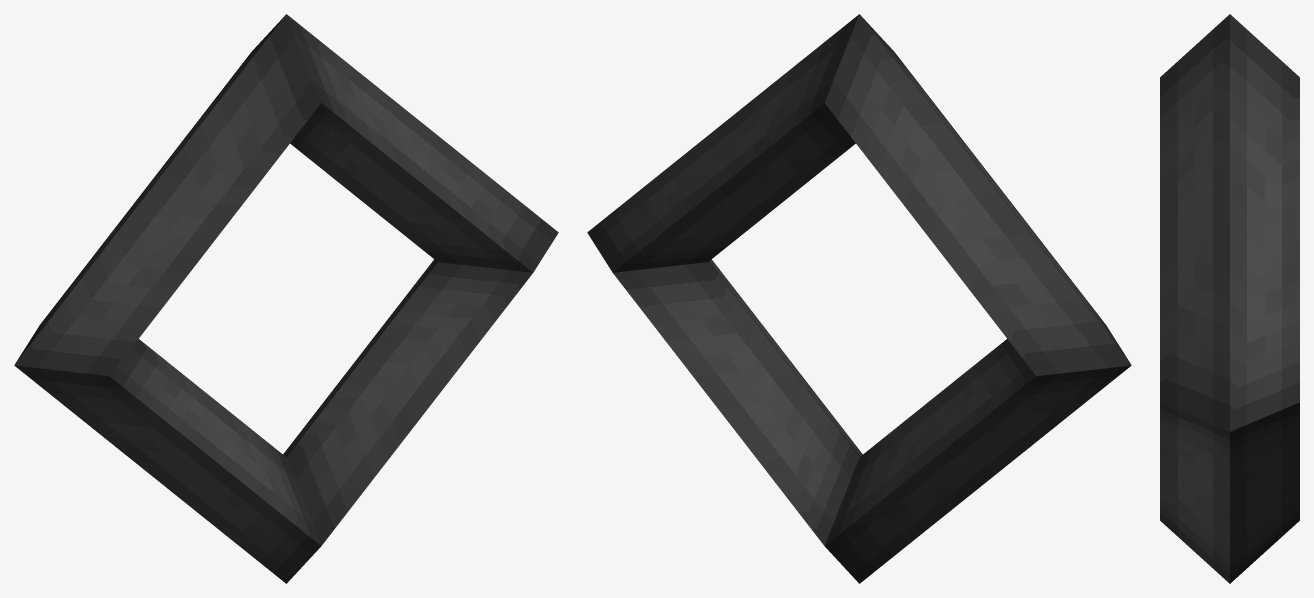
The model's file is vis_relay_base.obj.
3 renders of one model, left to right at view 1: azimuth 30°, elevation 25°; view 2: azimuth 150°, elevation 25°; view 3: azimuth 270°, elevation 25°, orthographic.
Parts seen in each view (by area): view 1: RingBase; view 2: RingBase; view 3: RingBase.
Part boxes in pixels (<box>): RingBase: <box>14,14,558,583</box>; RingBase: <box>587,14,1131,583</box>; RingBase: <box>1160,14,1299,583</box>.
Size of the model in its own units: 0.45 by 0.45 by 0.1.
